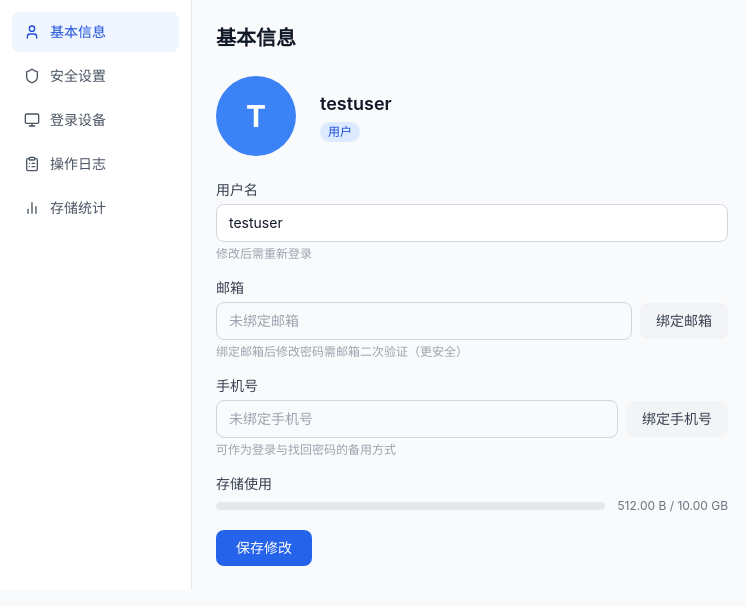
Profile page › switches to storage tab on click
Step 1. Click the button "存储统计" → click(96, 208), box [12,188,179,228]
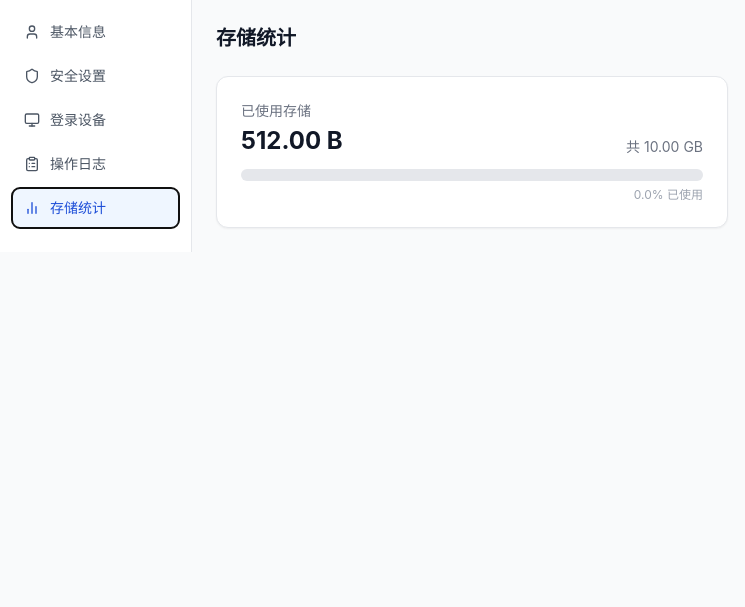
Expected: the text "已使用存储" is shown, [241,102,311,119]
